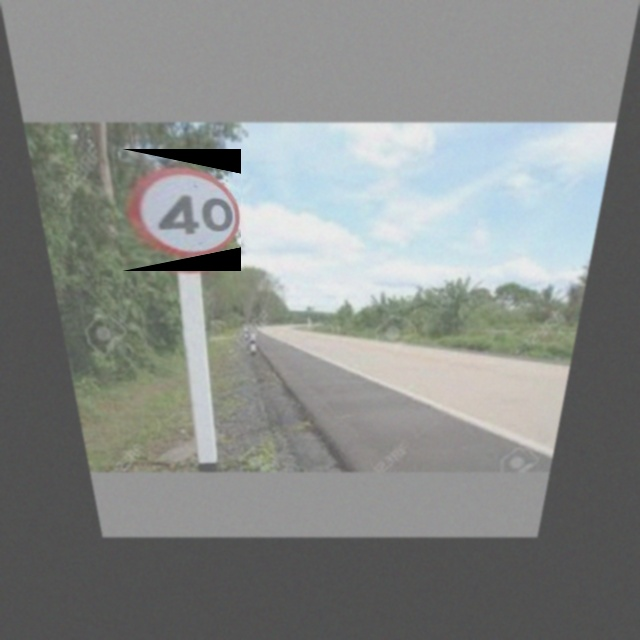Speed_Limit_40: (122, 149, 241, 271)
